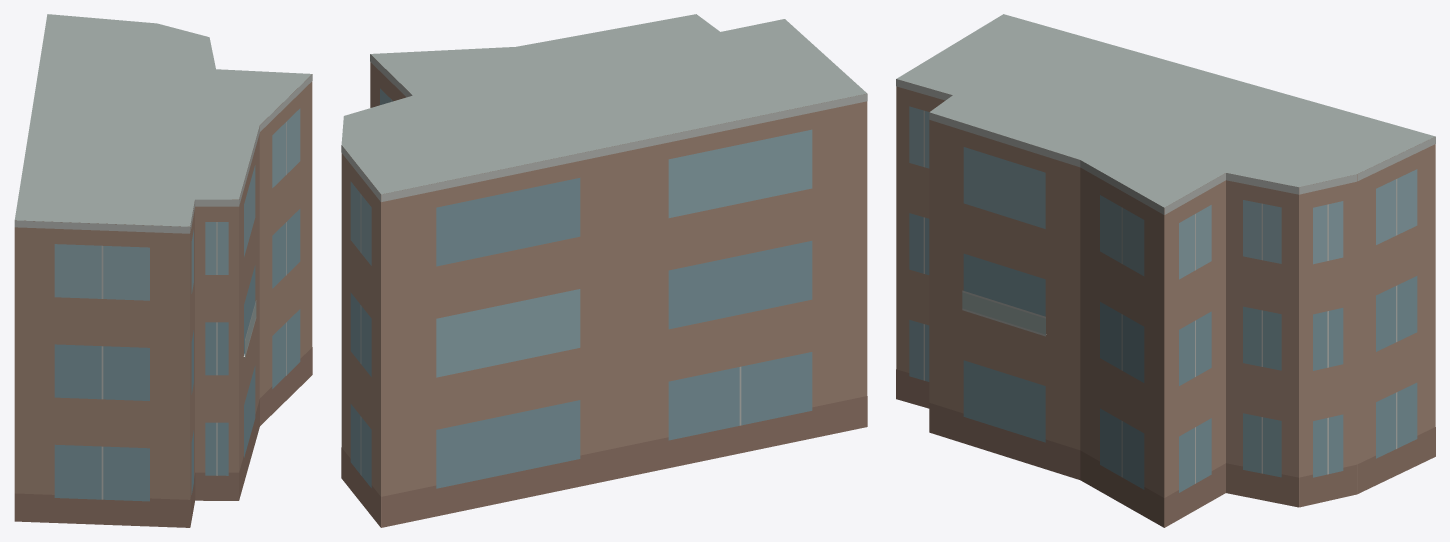
The model's file is survey-upis-32867950.glb.
3 views of the same model, side by side, from view 1: azimuth 30°, elevation 25°; view 2: azimuth 150°, elevation 25°; view 3: azimuth 270°, elevation 25° (orthographic). The views are drawn at different scales.
Parts seen in each view (by area): view 1: survey-upis-32867950.tmp; view 2: survey-upis-32867950.tmp; view 3: survey-upis-32867950.tmp.
Part boxes in pixels (box(x1,y1,x2,y2)): survey-upis-32867950.tmp: box(14, 14, 312, 527); survey-upis-32867950.tmp: box(341, 14, 867, 527); survey-upis-32867950.tmp: box(896, 14, 1435, 527).
Size of the model in its own units: 13.63 by 10.5 by 16.05.
